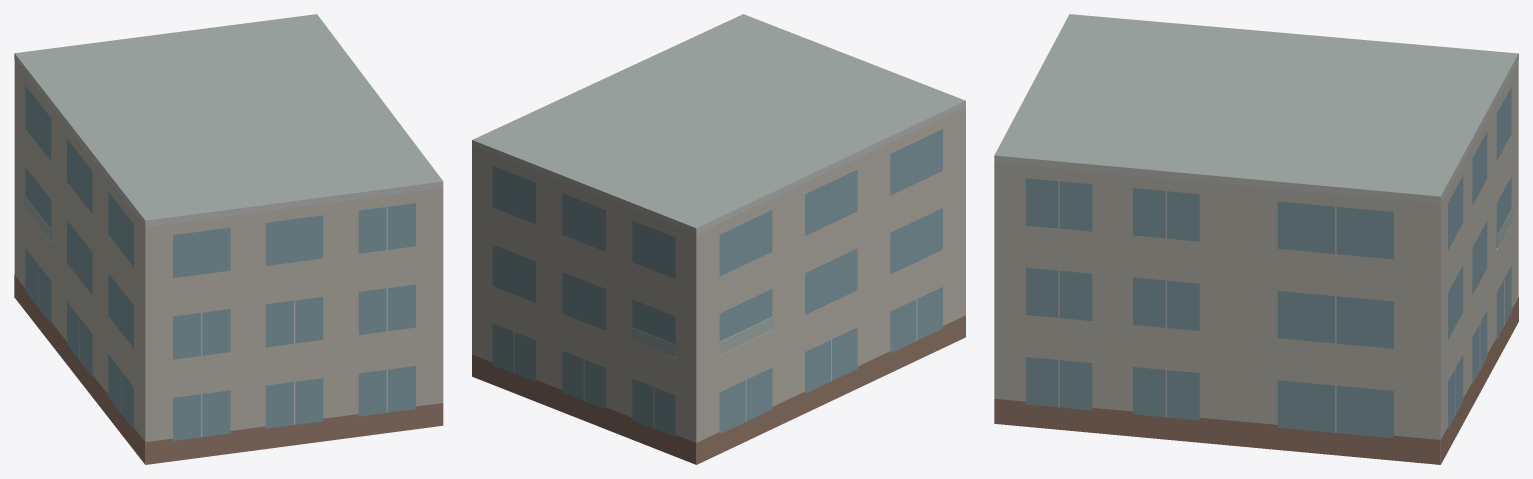
File: survey-upis-32541037.glb
3 renders of one model, left to right at view 1: azimuth 30°, elevation 25°; view 2: azimuth 150°, elevation 25°; view 3: azimuth 270°, elevation 25°, orthographic. The views are drawn at different scales.
Visible parts, largest first — view 1: survey-upis-32541037.tmp; view 2: survey-upis-32541037.tmp; view 3: survey-upis-32541037.tmp.
Boxes of the visible parts, bbox=[...] form: survey-upis-32541037.tmp: bbox=[14, 14, 443, 464]; survey-upis-32541037.tmp: bbox=[472, 14, 965, 464]; survey-upis-32541037.tmp: bbox=[994, 14, 1518, 464].
Bounding box in the file's own units: 13.37 × 9.15 × 16.22.
